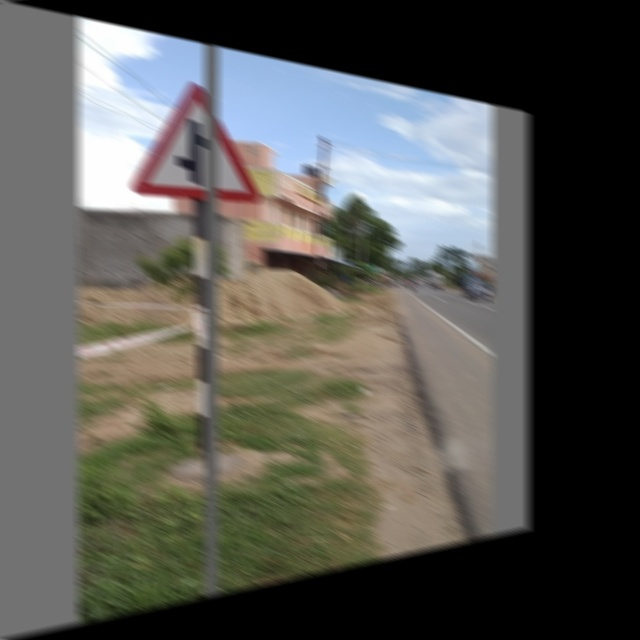Staggered_Intersection: (135, 62, 262, 212)
